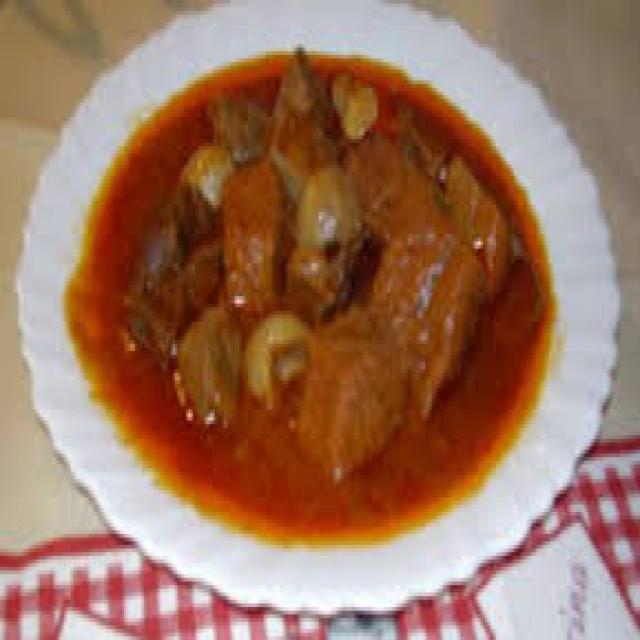kamouniya: (66, 39, 571, 506)
